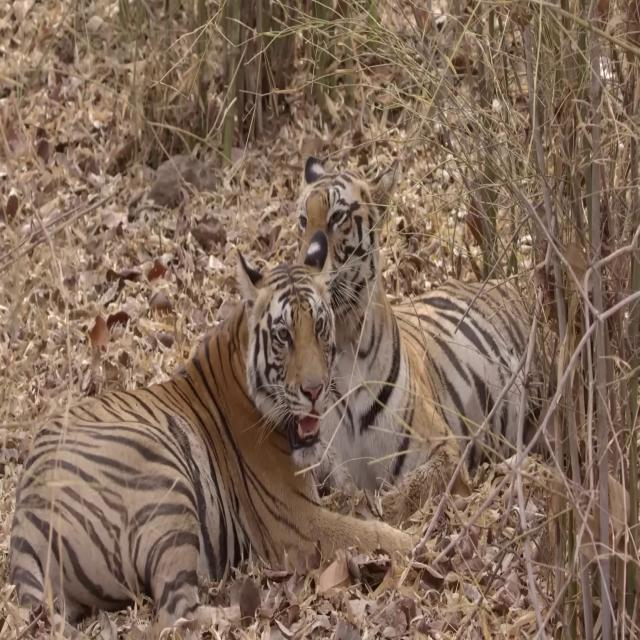tiger: (0, 242, 359, 638), (296, 154, 551, 532)
